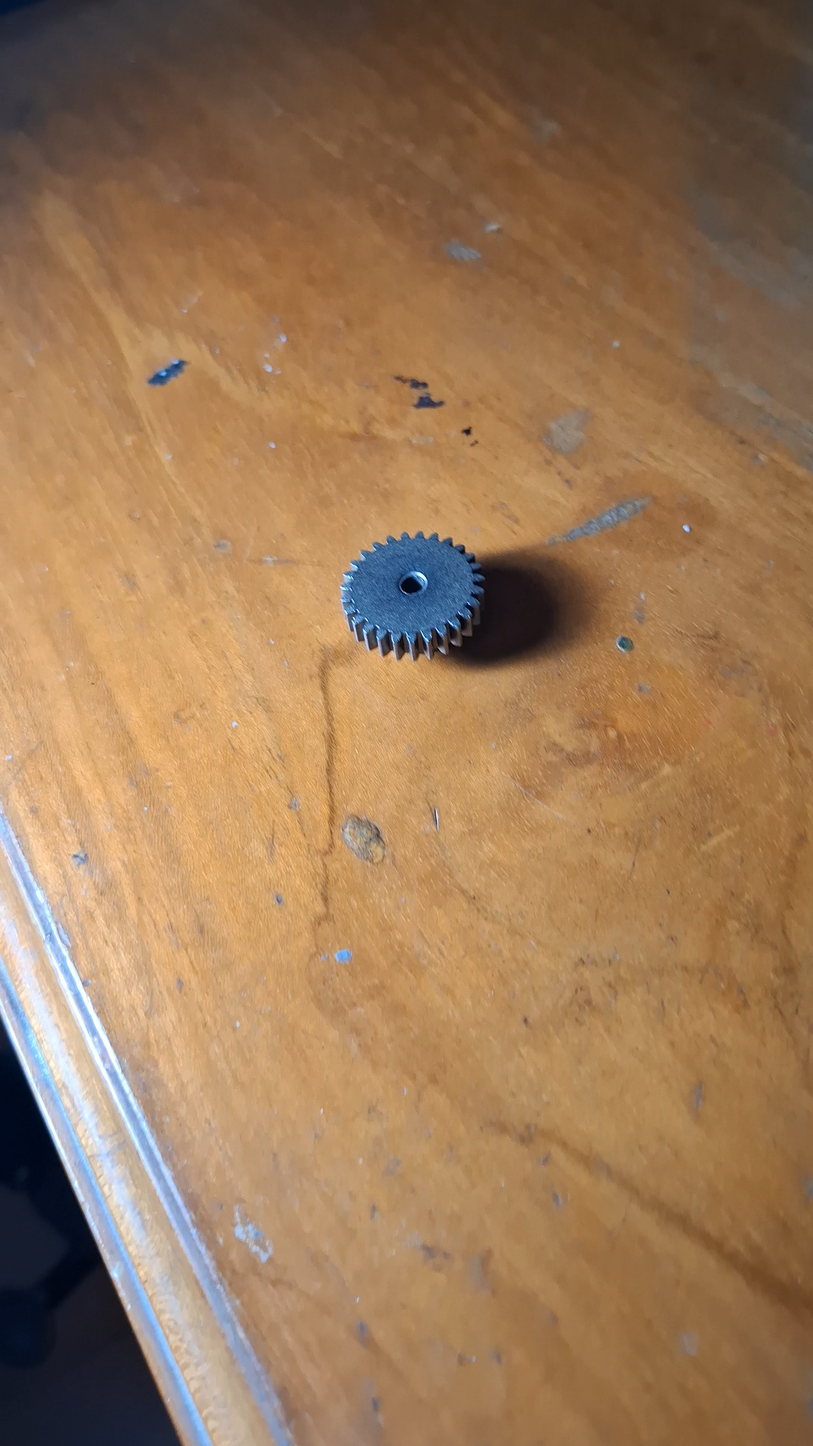spur gear: (341, 532, 483, 659)
